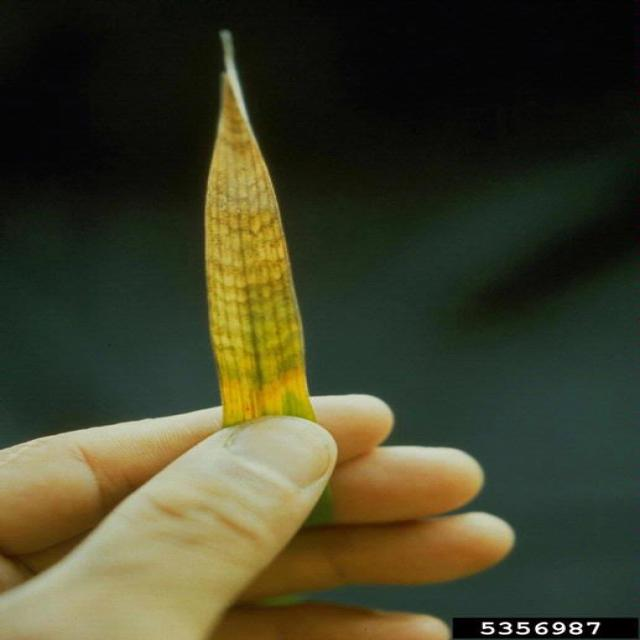Bacterial leaf blight: (207, 29, 310, 422)
